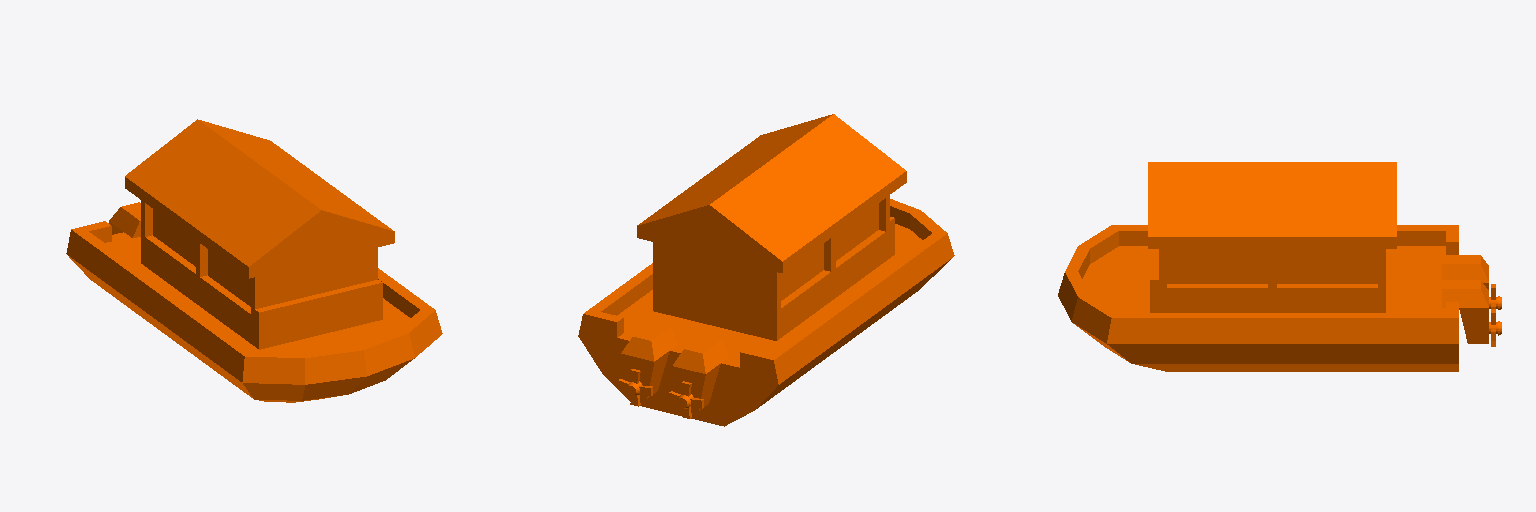
The picture shows the model from 3 angles: view 1: azimuth 30°, elevation 25°; view 2: azimuth 150°, elevation 25°; view 3: azimuth 270°, elevation 25°; orthographic projection.
Visible parts, largest first — view 1: Mesh5 Group1 Model, Mesh2 Group3 Group1 Model; view 2: Mesh5 Group1 Model, Mesh1 Group2 Group1 Model, Mesh2 Group3 Group1 Model; view 3: Mesh5 Group1 Model, Mesh1 Group2 Group1 Model, Mesh2 Group3 Group1 Model.
Boxes of the visible parts, box(x1,y1,x2,y2) form: Mesh5 Group1 Model: box(66, 119, 442, 402); Mesh2 Group3 Group1 Model: box(109, 202, 140, 237); Mesh5 Group1 Model: box(578, 114, 954, 426); Mesh1 Group2 Group1 Model: box(621, 322, 677, 398); Mesh2 Group3 Group1 Model: box(672, 335, 728, 410); Mesh5 Group1 Model: box(1058, 162, 1458, 371); Mesh1 Group2 Group1 Model: box(1442, 280, 1501, 343); Mesh2 Group3 Group1 Model: box(1442, 255, 1501, 309).
Size of the model in its own units: 2.68 by 2.4 by 5.14.
Materials: 7 (1 with a texture image).